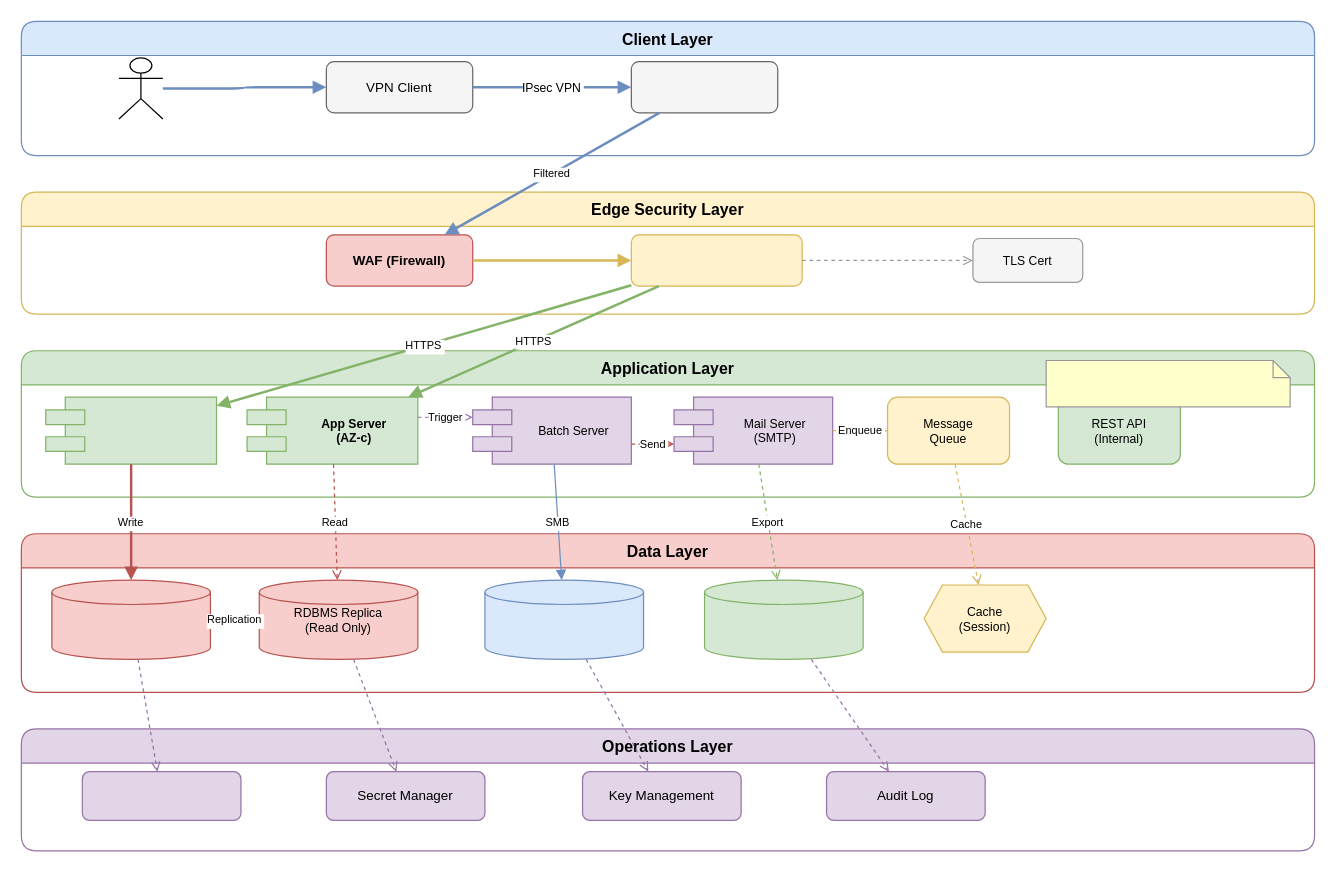
Image size: 1336x872. Some labels were removed from this diagram. The shapes that lost their labels are listed below. From the top down, each one's centre as x and y in pixels, then its label:
At (140,88): "CRM Users".
At (704,86): "VPN Gateway".
At (716,260): "Load Balancer (L7)".
At (1167,383): "Multi-AZ / Cloud-Agnostic UML Component Diagram".
At (131,430): "App Server (AZ-a)".
At (130,619): "RDBMS Primary (PostgreSQL)".
At (564,619): "File Server (Windows SMB)".
At (783,619): "Object Storage (Backup/Logs)".
At (161,795): "Monitoring".
